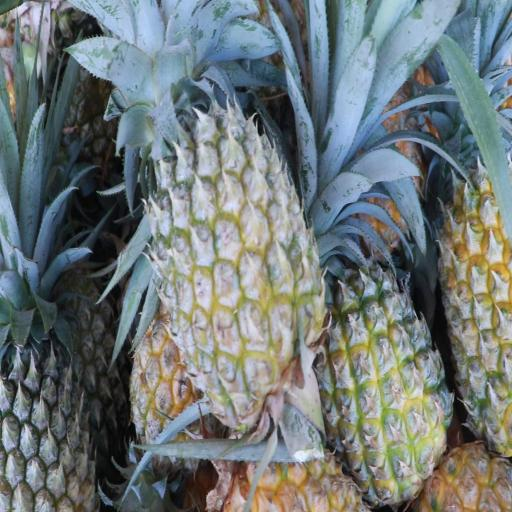------------------------------: (158, 106, 316, 410)
Pineapple - v8 v1: (319, 267, 448, 502), (433, 171, 512, 442)
